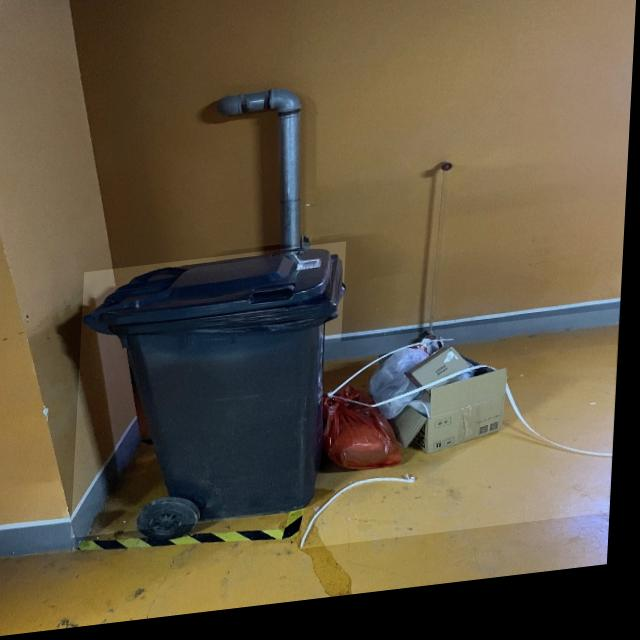garbage: (307, 324, 623, 557)
garbage_bin: (77, 251, 349, 541)
